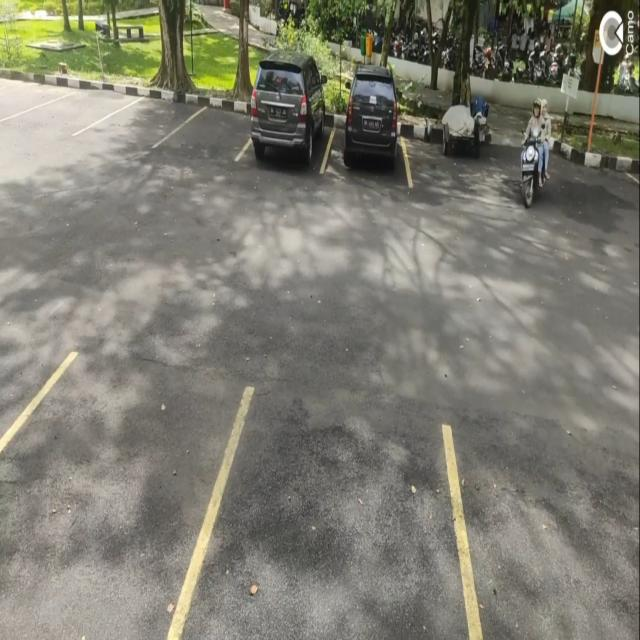empty: (214, 381, 466, 640), (0, 344, 214, 640), (104, 85, 182, 149), (26, 77, 104, 139), (176, 93, 245, 163)
occupied: (246, 63, 330, 175), (329, 74, 412, 186)
